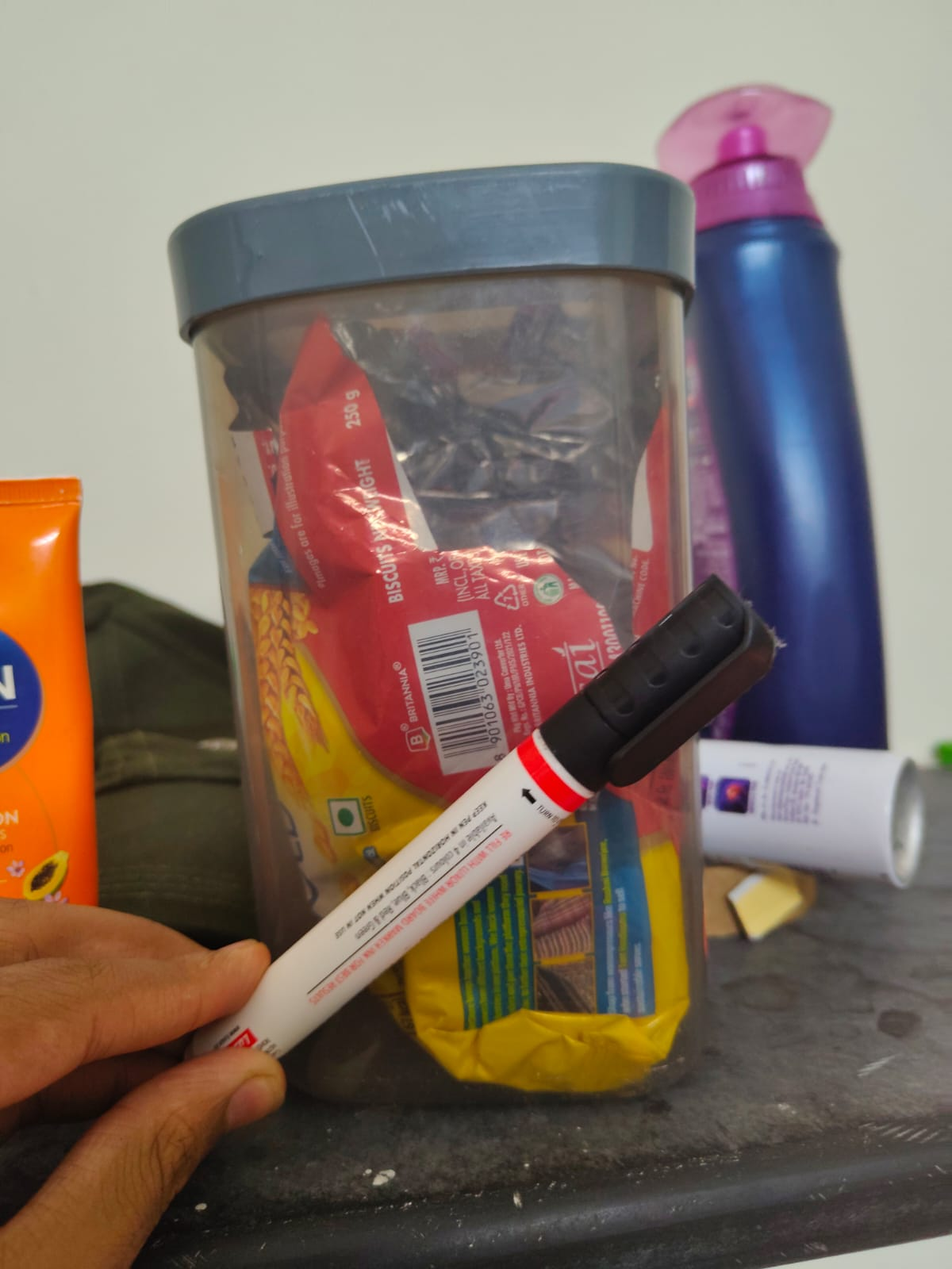case: (174, 552, 784, 1099)
